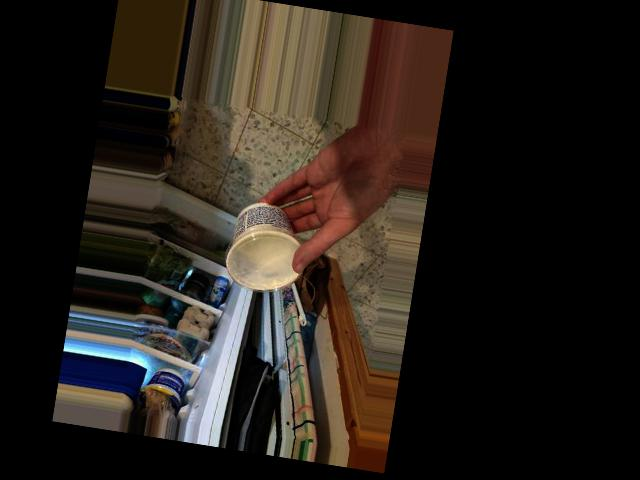cotage: (227, 198, 309, 291)
